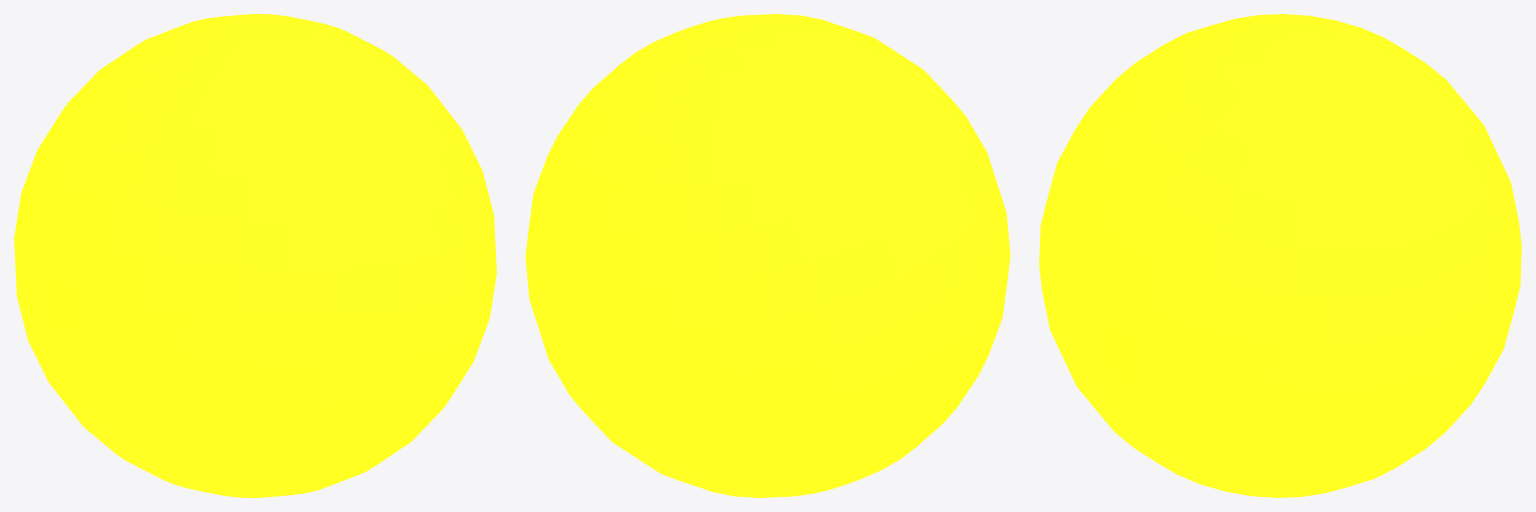
3 views of the same model, side by side, from view 1: azimuth 30°, elevation 25°; view 2: azimuth 150°, elevation 25°; view 3: azimuth 270°, elevation 25° (orthographic).
Parts seen in each view (by area): view 1: Sphere.002; view 2: Sphere.002; view 3: Sphere.002.
Boxes of the visible parts, left/top/right/bottom form: Sphere.002: left=14, top=14, right=496, bottom=497; Sphere.002: left=525, top=14, right=1010, bottom=497; Sphere.002: left=1039, top=14, right=1521, bottom=497.
Size of the model in its own units: 0.0425 by 0.0426 by 0.0425.
